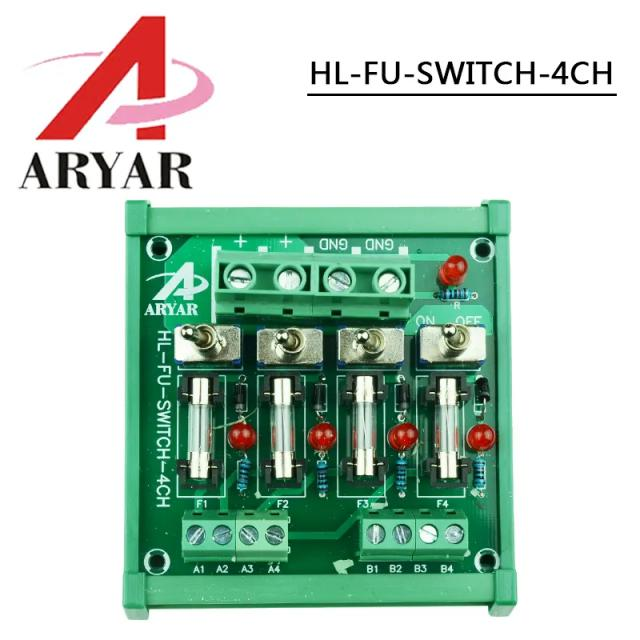LED: (466, 420, 510, 463), (307, 411, 347, 458), (381, 413, 423, 455), (430, 246, 468, 291), (229, 419, 260, 454)
connector -5v-: (197, 229, 415, 323), (183, 509, 300, 574), (362, 510, 471, 561)
diode -D1-: (469, 372, 499, 412), (392, 375, 421, 415), (234, 371, 254, 417), (314, 377, 336, 410)
fuse F1: (173, 368, 228, 481), (266, 369, 314, 487), (348, 373, 384, 485), (435, 374, 473, 478)
resistor IR1: (230, 454, 256, 500), (431, 281, 472, 309), (315, 454, 336, 505), (388, 454, 414, 494), (469, 458, 494, 493)
